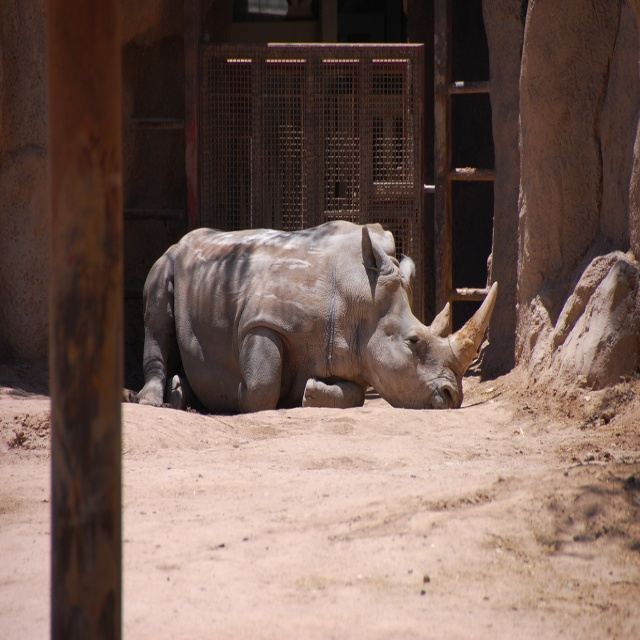Rhinoceros: (133, 210, 500, 417)
